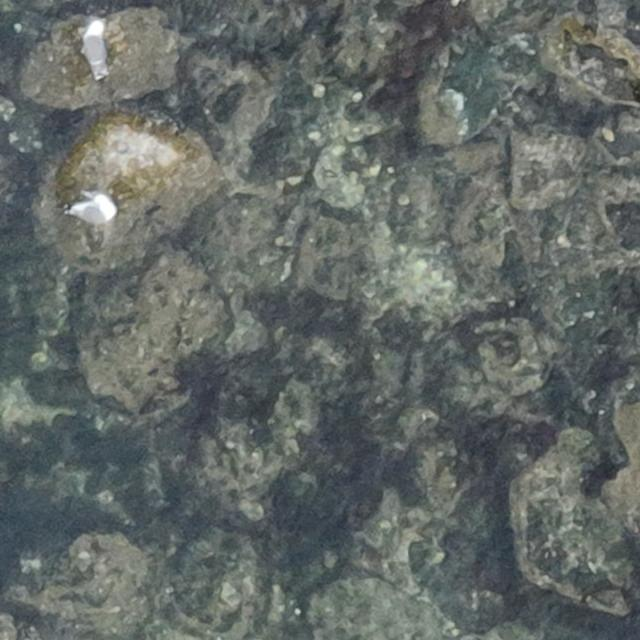umineko: (79, 14, 110, 77), (68, 193, 120, 223)
